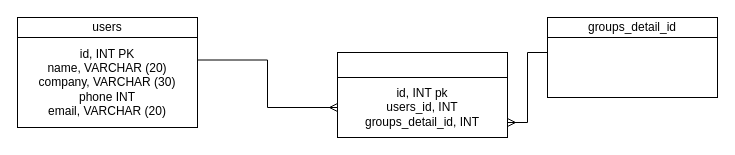
The diagram is 735 pixels wide and 155 high, and some of its shapes have lost their labels. The box of each missing label's shape, as (x1, y1, x2, y2) in pixels:
groups: (336, 52, 508, 78)
id, INT PK name, VARCHAR (20): (546, 36, 718, 98)
